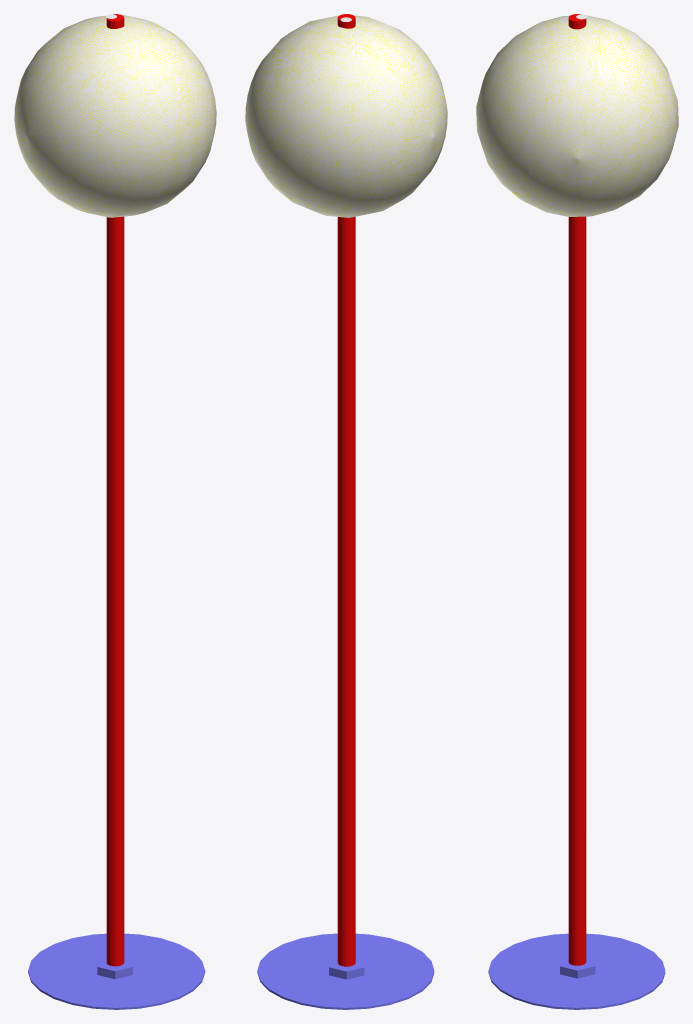
File: yellow_Flower.dae
3 views of the same model, side by side, from view 1: azimuth 30°, elevation 25°; view 2: azimuth 150°, elevation 25°; view 3: azimuth 270°, elevation 25° (orthographic).
Visible parts, largest first — view 1: SketchUp_008, SketchUp_006, SketchUp_002, SketchUp_001; view 2: SketchUp_008, SketchUp_006, SketchUp_002, SketchUp_001; view 3: SketchUp_008, SketchUp_006, SketchUp_002, SketchUp_001.
Boxes of the visible parts, x1=… form: SketchUp_008: x1=14, y1=14, x2=216, y2=217; SketchUp_006: x1=106, y1=14, x2=124, y2=966; SketchUp_002: x1=28, y1=933, x2=205, y2=1009; SketchUp_001: x1=97, y1=956, x2=132, y2=979; SketchUp_008: x1=245, y1=15, x2=447, y2=217; SketchUp_006: x1=337, y1=14, x2=355, y2=966; SketchUp_002: x1=257, y1=933, x2=434, y2=1009; SketchUp_001: x1=329, y1=956, x2=364, y2=979; SketchUp_008: x1=476, y1=15, x2=678, y2=216; SketchUp_006: x1=568, y1=14, x2=586, y2=965; SketchUp_002: x1=488, y1=933, x2=665, y2=1009; SketchUp_001: x1=560, y1=955, x2=595, y2=978.
Size of the model in its own units: 0.456 by 0.4579 by 2.38.
